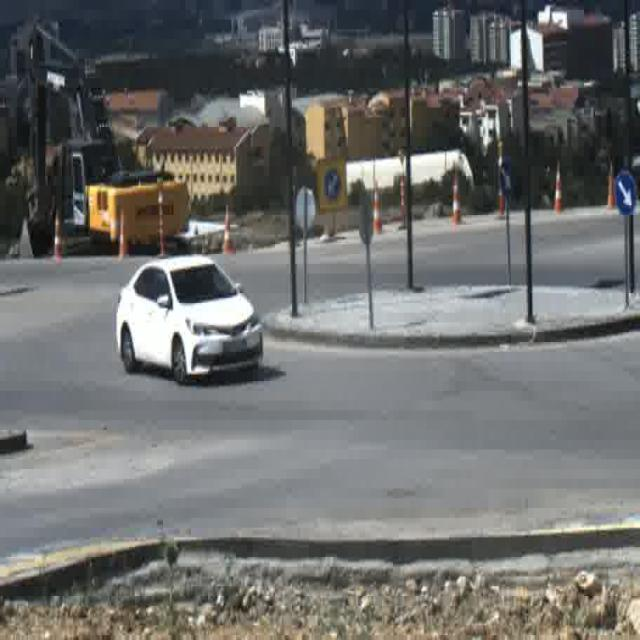Car: (117, 252, 260, 391)
